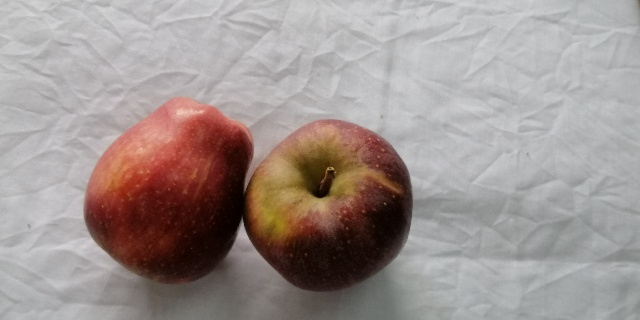apple_kashmir: (84, 97, 256, 285), (243, 118, 423, 292)
